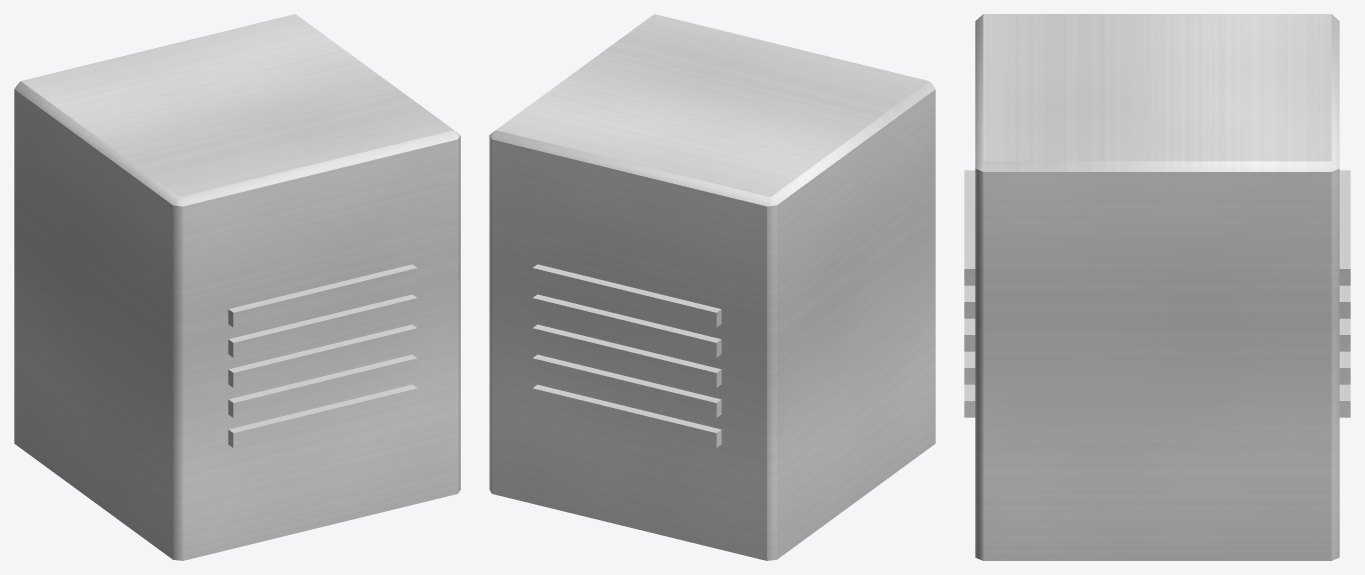
Rendered from vent.obj.
3 renders of one model, left to right at view 1: azimuth 30°, elevation 25°; view 2: azimuth 150°, elevation 25°; view 3: azimuth 270°, elevation 25°, orthographic. The views are drawn at different scales.
Visible parts, largest first — view 1: vent_housing, retained_25, retained_10, retained_20, retained_15, retained_5; view 2: vent_housing, retained_50, retained_35, retained_45, retained_40, retained_30; view 3: vent_housing, retained_25, retained_50.
Part boxes in pixels (bbox=[...]): vent_housing: bbox=[14, 14, 460, 560]; retained_25: bbox=[228, 264, 417, 327]; retained_10: bbox=[228, 354, 417, 417]; retained_20: bbox=[228, 294, 417, 357]; retained_15: bbox=[228, 324, 417, 387]; retained_5: bbox=[228, 384, 417, 447]; vent_housing: bbox=[489, 14, 935, 560]; retained_50: bbox=[532, 264, 721, 327]; retained_35: bbox=[532, 354, 721, 417]; retained_45: bbox=[532, 294, 721, 357]; retained_40: bbox=[532, 324, 721, 387]; retained_30: bbox=[532, 384, 721, 447]; vent_housing: bbox=[975, 14, 1339, 560]; retained_25: bbox=[964, 170, 975, 285]; retained_50: bbox=[1339, 170, 1350, 285].
Bounding box in the file's own units: 1 × 1.2 × 1.06.
